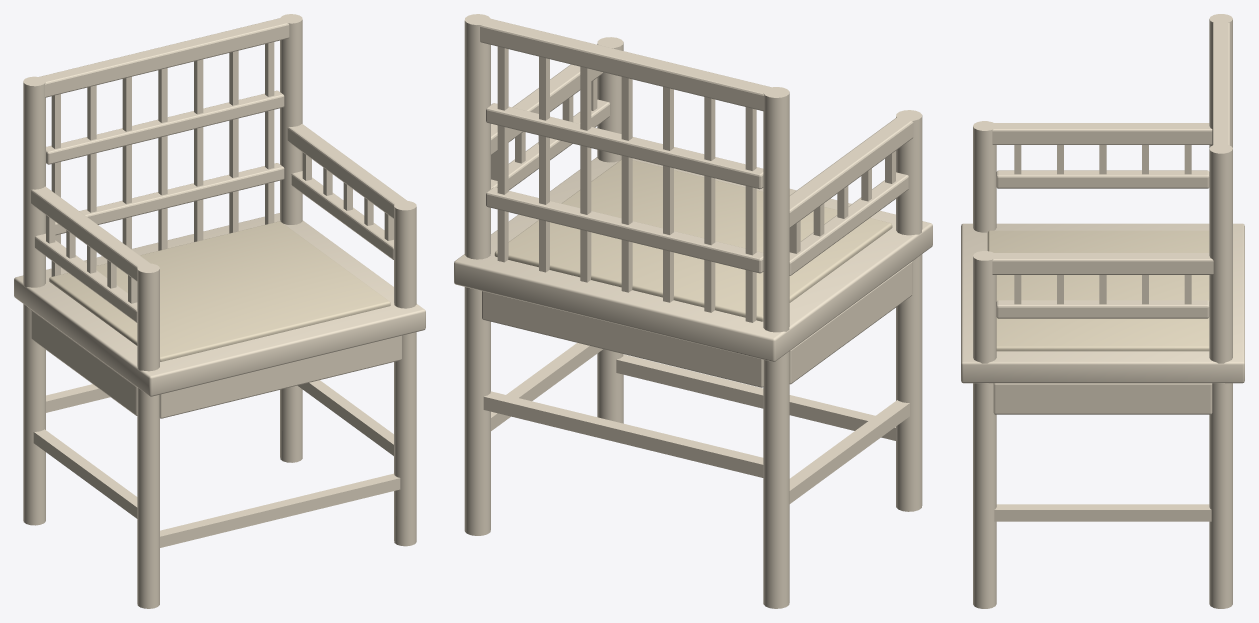
The model's file is sg_rose_chair.glb.
The picture shows the model from 3 angles, left to right: view 1: azimuth 30°, elevation 25°; view 2: azimuth 150°, elevation 25°; view 3: azimuth 270°, elevation 25°; orthographic projection. The views are drawn at different scales.
Parts seen in each view (by area): view 1: rails, woven, seat, stretch, apron, rear0, backlat, front0, front1, rear1, backlat2, armlat1 (+1 smaller); view 2: rails, seat, woven, stretch, rear0, apron, rear1, backlat, front0, backlat2, front1, armlat0 (+1 smaller); view 3: rails, woven, seat, rear1, front1, apron, stretch, front0, armlat0, armlat1, rear0.
Boxes of the visible parts, x1,y1,x2,y2 form: rails: (31, 18, 407, 322); woven: (49, 221, 390, 361); seat: (14, 213, 425, 396); stretch: (33, 380, 400, 547); apron: (31, 310, 401, 418); rear0: (23, 76, 45, 525); backlat: (51, 42, 274, 212); front0: (137, 263, 159, 608); front1: (394, 201, 416, 546); rear1: (280, 14, 302, 462); backlat2: (51, 182, 274, 276); armlat1: (302, 152, 393, 240); rails: (480, 19, 914, 275); seat: (454, 157, 932, 361); woven: (494, 159, 892, 321); stretch: (483, 343, 909, 503); rear0: (763, 87, 789, 608); apron: (482, 261, 912, 387); rear1: (464, 14, 490, 535); backlat: (497, 46, 756, 255); front0: (896, 110, 922, 511); backlat2: (497, 209, 756, 322); front1: (597, 37, 623, 423); armlat0: (789, 151, 895, 253); rails: (987, 22, 1229, 318); woven: (987, 230, 1209, 351); seat: (961, 223, 1244, 383); rear1: (1209, 144, 1232, 608); front1: (973, 251, 996, 608); apron: (993, 383, 1212, 414); stretch: (994, 504, 1211, 521); front0: (973, 121, 996, 232); armlat0: (1014, 145, 1191, 174); armlat1: (1014, 275, 1191, 304); rear0: (1209, 14, 1232, 148).
Size of the model in its own units: 0.56 by 0.85 by 0.48.
